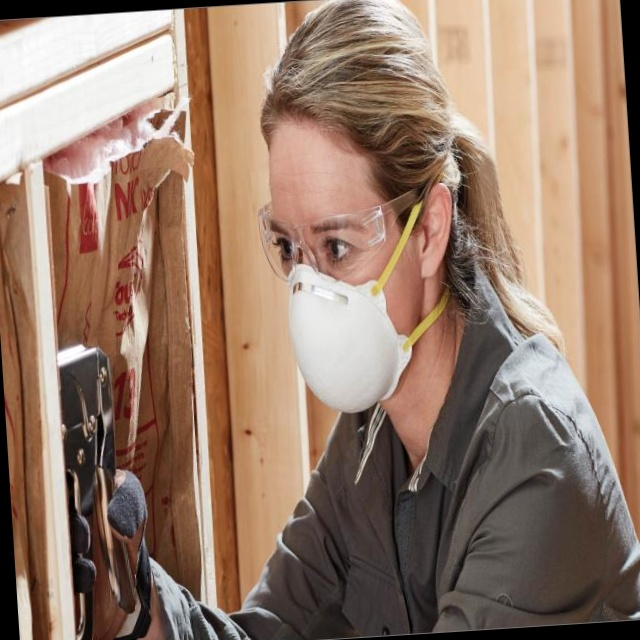goggles: (260, 195, 418, 286)
